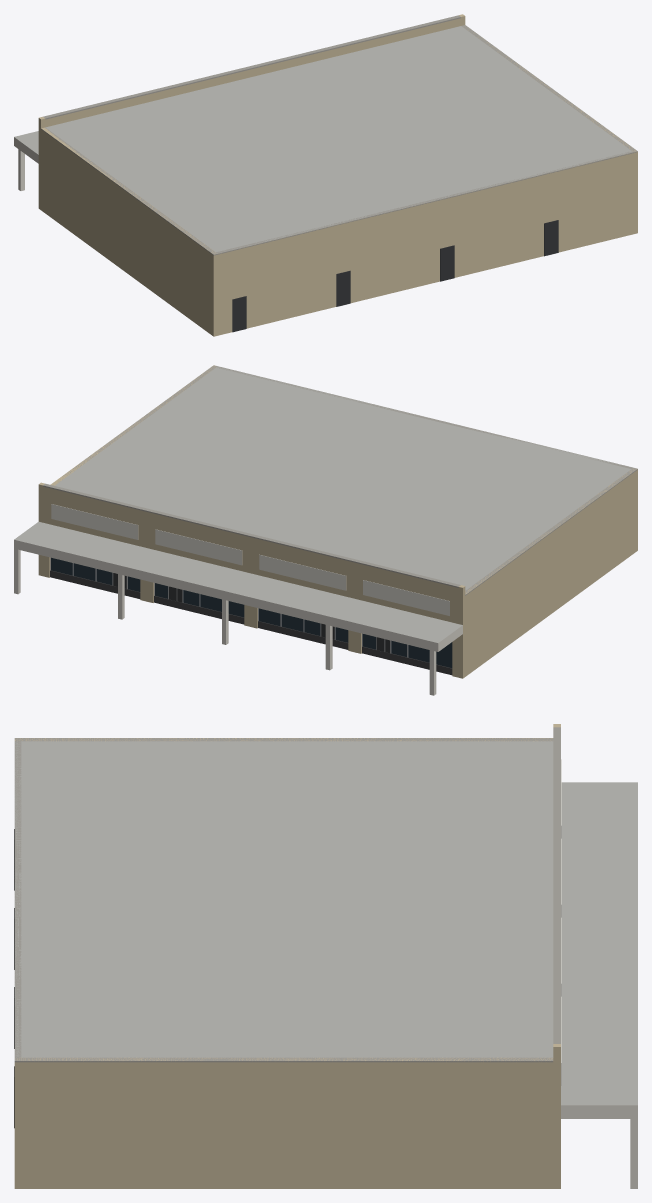
Rendered from strip_mall_row_4bay.glb.
The picture shows the model from 3 angles, top to bottom: view 1: azimuth 30°, elevation 25°; view 2: azimuth 150°, elevation 25°; view 3: azimuth 270°, elevation 25°; orthographic projection. The views are drawn at different scales.
Parts seen in each view (by area): view 1: strip_mall_row_4bay-col; view 2: strip_mall_row_4bay-col; view 3: strip_mall_row_4bay-col.
Part boxes in pixels (x1,y1,x2,y2): strip_mall_row_4bay-col: [14, 14, 637, 336]; strip_mall_row_4bay-col: [14, 365, 637, 695]; strip_mall_row_4bay-col: [14, 724, 637, 1188].
Size of the model in its own units: 29.8 by 6.1 by 24.33.
